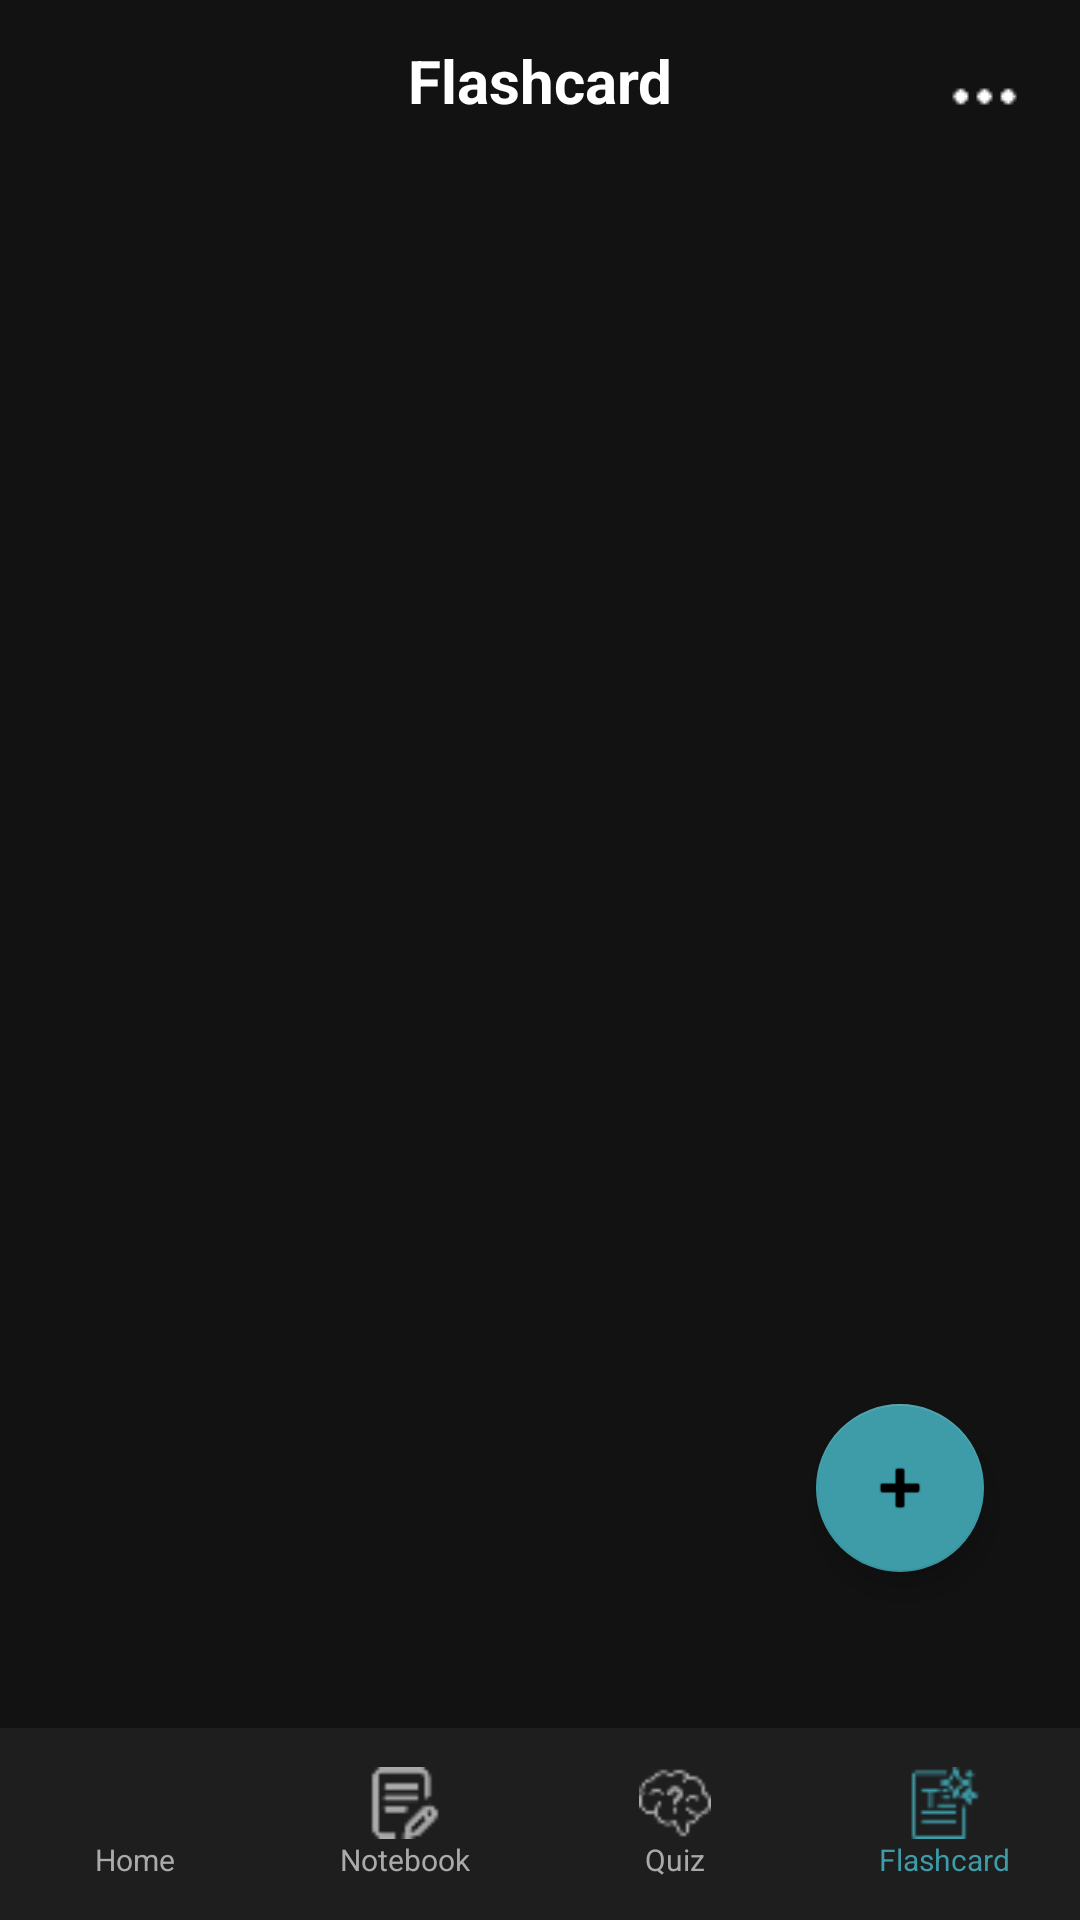

Icon bounding boxes for this 1080w x 1920h phone screenshot, format box(x1, y1, x2, y2):
add: box(816, 1404, 984, 1572)
aisummarize: box(911, 1767, 979, 1839)
dots: box(952, 88, 1017, 105)
